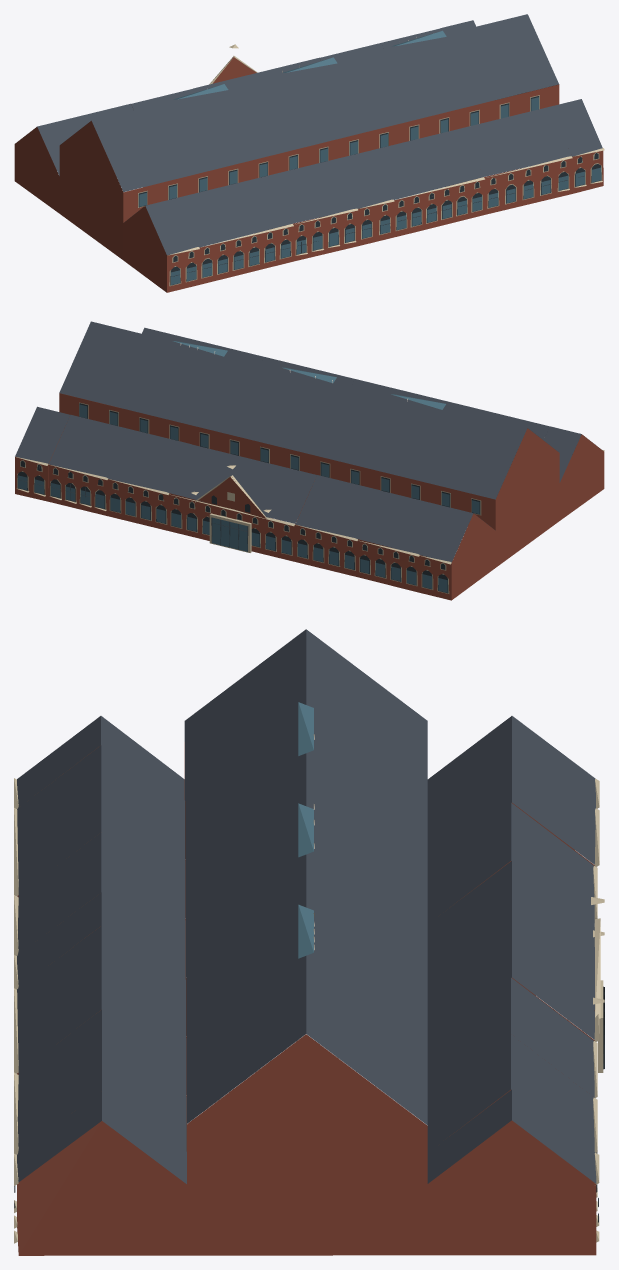
File: zuiveringshal-west.lod1.glb
3 renders of one model, top to bottom at view 1: azimuth 30°, elevation 25°; view 2: azimuth 150°, elevation 25°; view 3: azimuth 270°, elevation 25°, orthographic. The views are drawn at different scales.
Parts seen in each view (by area): view 1: zuiveringshal-west; view 2: zuiveringshal-west; view 3: zuiveringshal-west.
Boxes of the visible parts, <box> form: zuiveringshal-west: <box>14,14,604,292</box>; zuiveringshal-west: <box>15,321,604,600</box>; zuiveringshal-west: <box>14,629,604,1255</box>.
Bounding box in the file's own units: 68.13 × 17.68 × 41.95.
